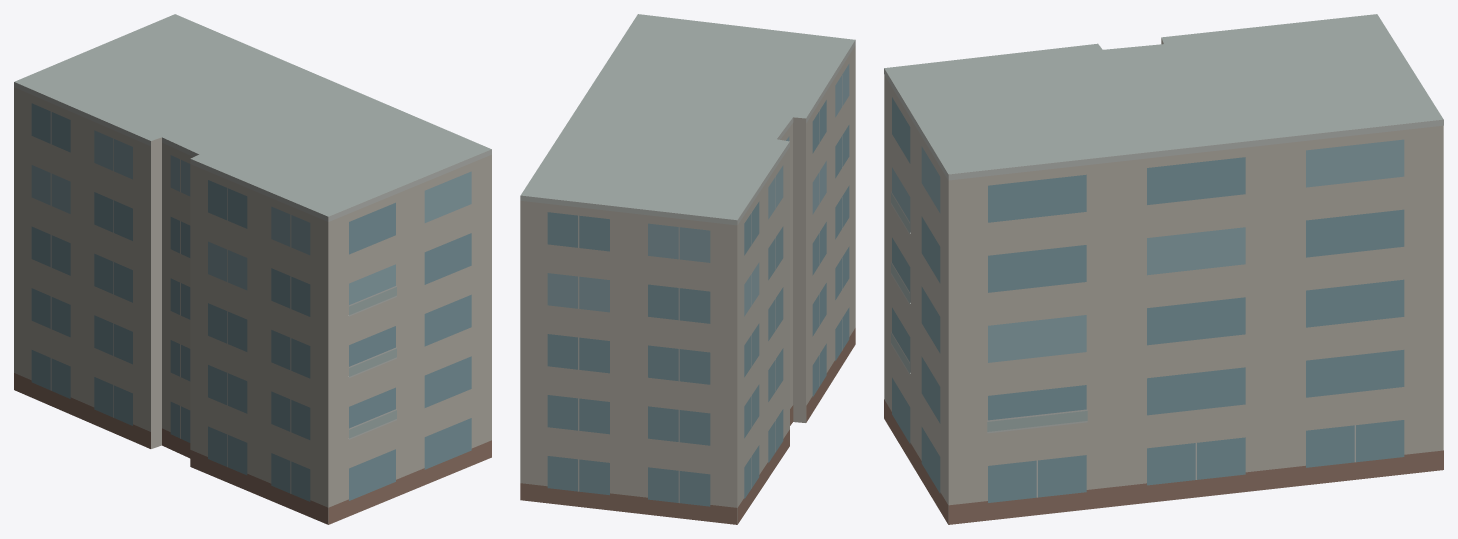
Rendered from survey-upis-32717060.glb.
3 renders of one model, left to right at view 1: azimuth 30°, elevation 25°; view 2: azimuth 150°, elevation 25°; view 3: azimuth 270°, elevation 25°, orthographic. The views are drawn at different scales.
Parts seen in each view (by area): view 1: survey-upis-32717060.tmp; view 2: survey-upis-32717060.tmp; view 3: survey-upis-32717060.tmp.
Boxes of the visible parts, x1=… form: survey-upis-32717060.tmp: x1=14, y1=14, x2=491, y2=524; survey-upis-32717060.tmp: x1=520, y1=14, x2=855, y2=524; survey-upis-32717060.tmp: x1=884, y1=14, x2=1443, y2=524.
Bounding box in the file's own units: 13.96 × 14.2 × 20.57.
